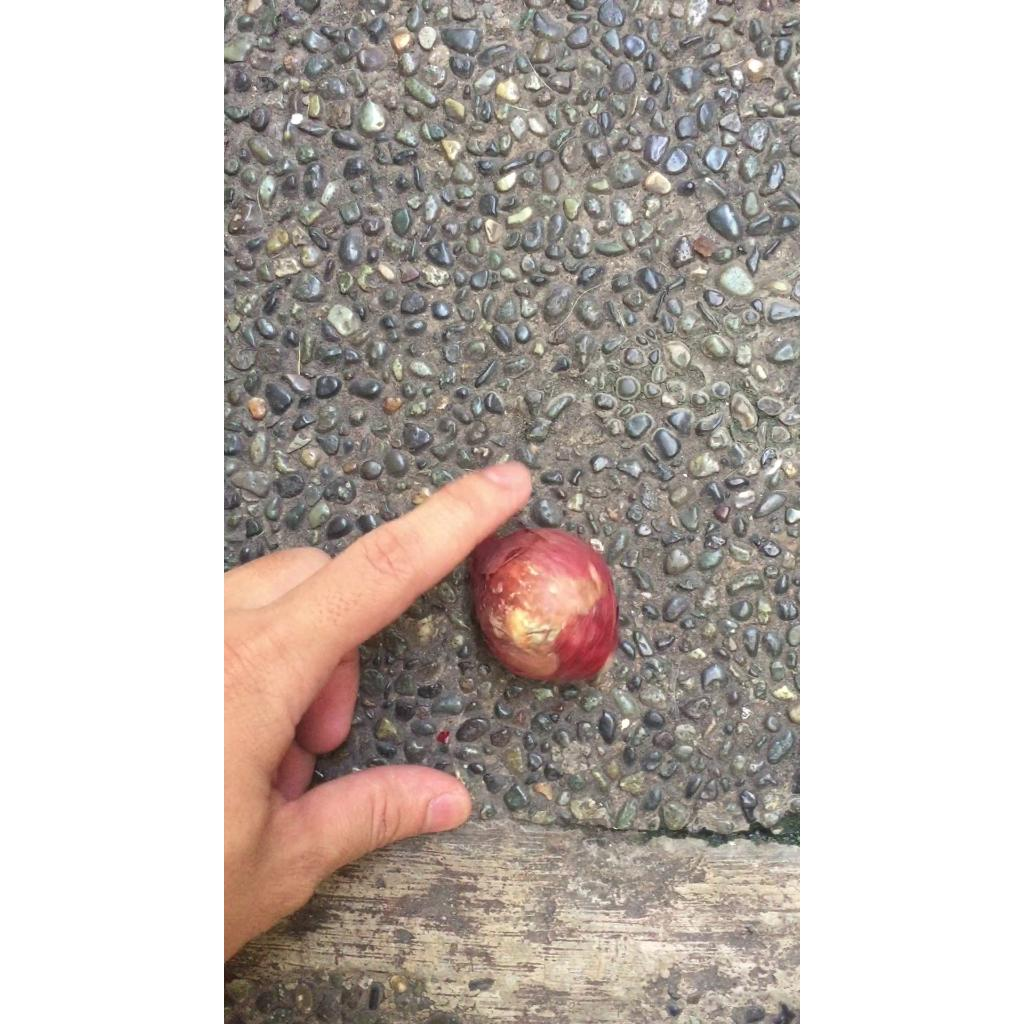Onion: (470, 529, 617, 681)
